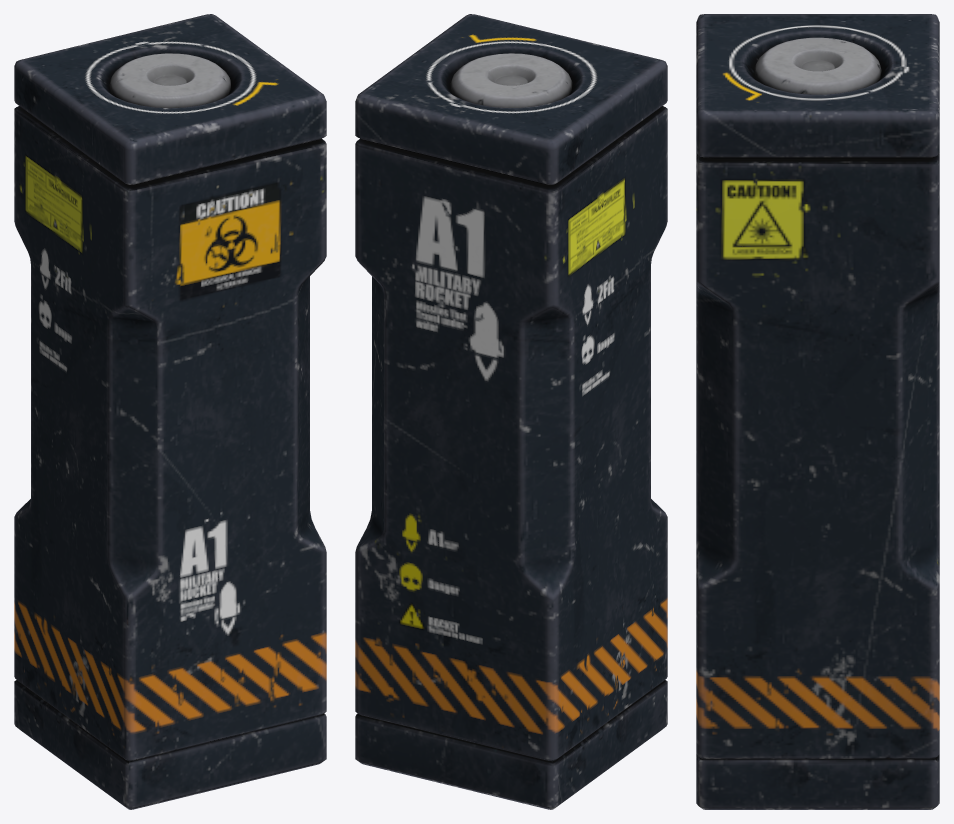
The model's file is SM_Missile01.fbx.
The picture shows the model from 3 angles, left to right: view 1: azimuth 30°, elevation 25°; view 2: azimuth 150°, elevation 25°; view 3: azimuth 270°, elevation 25°; orthographic projection. The views are drawn at different scales.
Visible parts, largest first — view 1: SM_Missile01_LOD0; view 2: SM_Missile01_LOD0; view 3: SM_Missile01_LOD0.
Part boxes in pixels (bbox=[...]): SM_Missile01_LOD0: bbox=[14, 14, 326, 809]; SM_Missile01_LOD0: bbox=[355, 14, 667, 809]; SM_Missile01_LOD0: bbox=[696, 14, 939, 809].
Bounding box in the file's own units: 19.35 × 19.35 × 61.49.
Materials: 1 (1 with a texture image).
